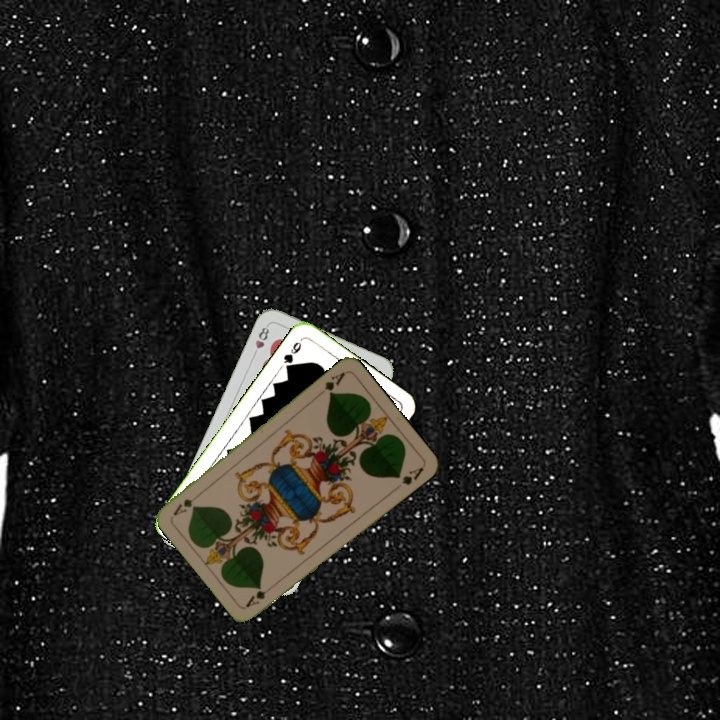G9: (279, 335, 305, 373)
GA: (242, 580, 277, 610), (315, 368, 348, 398)
H8: (249, 321, 272, 359)
